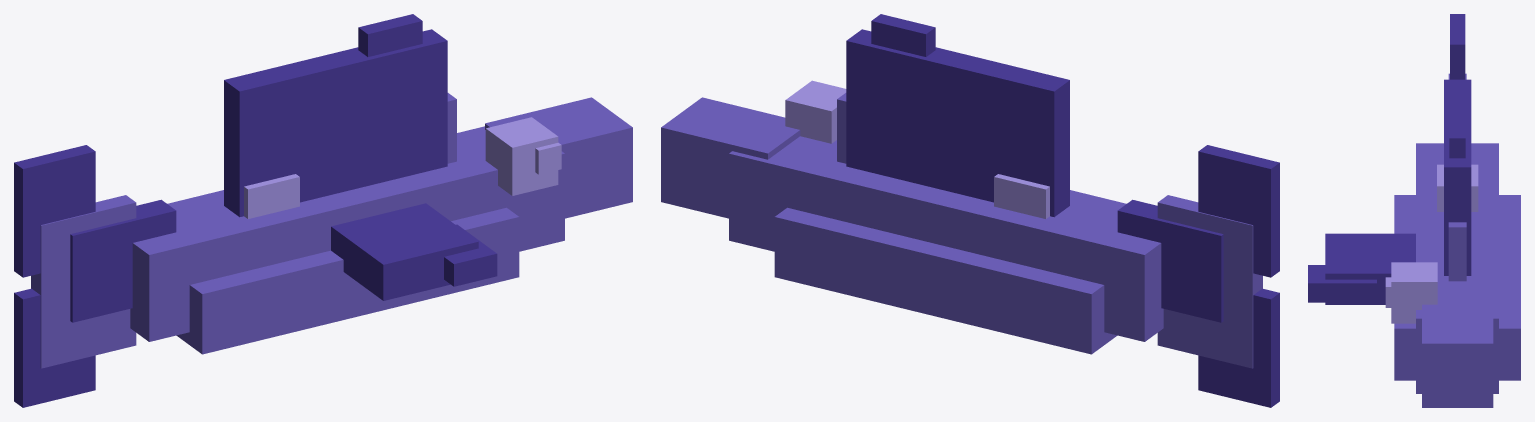
The model's file is fish_thunder_smelt.glb.
3 renders of one model, left to right at view 1: azimuth 30°, elevation 25°; view 2: azimuth 150°, elevation 25°; view 3: azimuth 270°, elevation 25°, orthographic. The views are drawn at different scales.
Parts seen in each view (by area): view 1: FishArt_body, FishArt_dorsal, FishArt_tail, FishArt_pectoral, FishArt_eye, FishArt_specialty; view 2: FishArt_body, FishArt_dorsal, FishArt_tail, FishArt_eye, FishArt_specialty; view 3: FishArt_body, FishArt_pectoral, FishArt_dorsal, FishArt_eye, FishArt_tail, FishArt_specialty.
Part boxes in pixels (<box>): FishArt_body: <box>31,93,632,368</box>; FishArt_dorsal: <box>224,14,447,217</box>; FishArt_tail: <box>14,145,176,407</box>; FishArt_pectoral: <box>331,203,497,300</box>; FishArt_eye: <box>485,117,561,195</box>; FishArt_specialty: <box>244,174,299,218</box>; FishArt_body: <box>661,93,1262,368</box>; FishArt_dorsal: <box>846,14,1069,217</box>; FishArt_tail: <box>1117,145,1279,407</box>; FishArt_eye: <box>785,80,846,143</box>; FishArt_specialty: <box>994,174,1049,218</box>; FishArt_body: <box>1394,73,1520,407</box>; FishArt_pectoral: <box>1308,233,1415,304</box>; FishArt_dorsal: <box>1444,79,1471,275</box>; FishArt_eye: <box>1385,262,1437,323</box>; FishArt_tail: <box>1450,14,1465,79</box>; FishArt_specialty: <box>1437,164,1478,211</box>.
Bounding box in the file's own units: 0.3091 × 0.1442 × 0.111.
